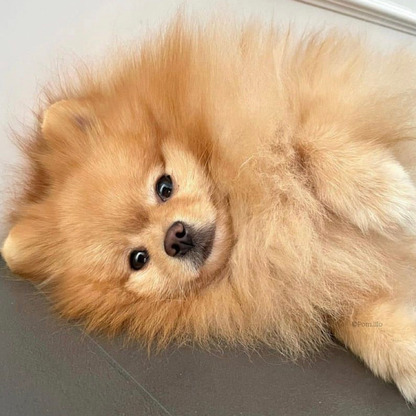Pomeranian: (21, 67, 388, 368)
